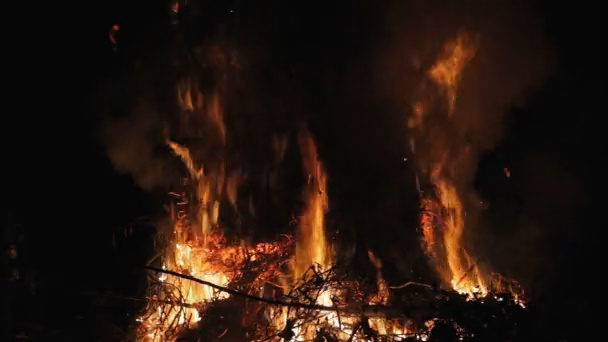fire: (151, 241, 234, 328), (439, 199, 484, 298), (290, 291, 350, 342), (306, 197, 329, 274), (371, 317, 406, 342)
